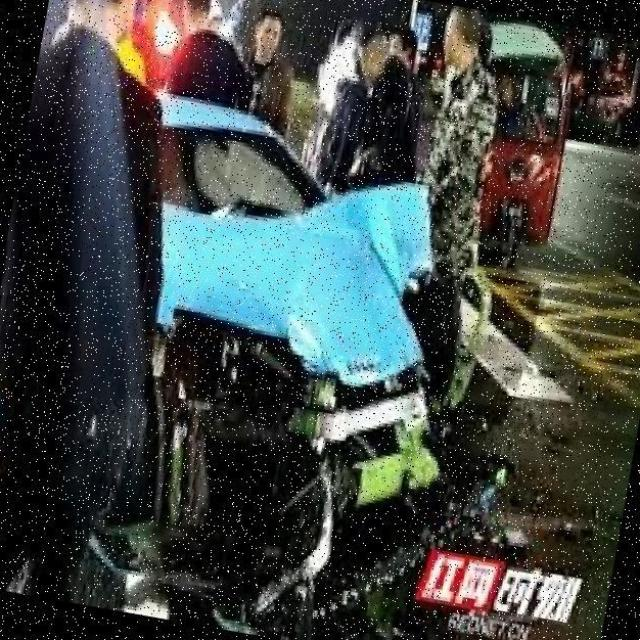accident: (54, 85, 526, 640)
